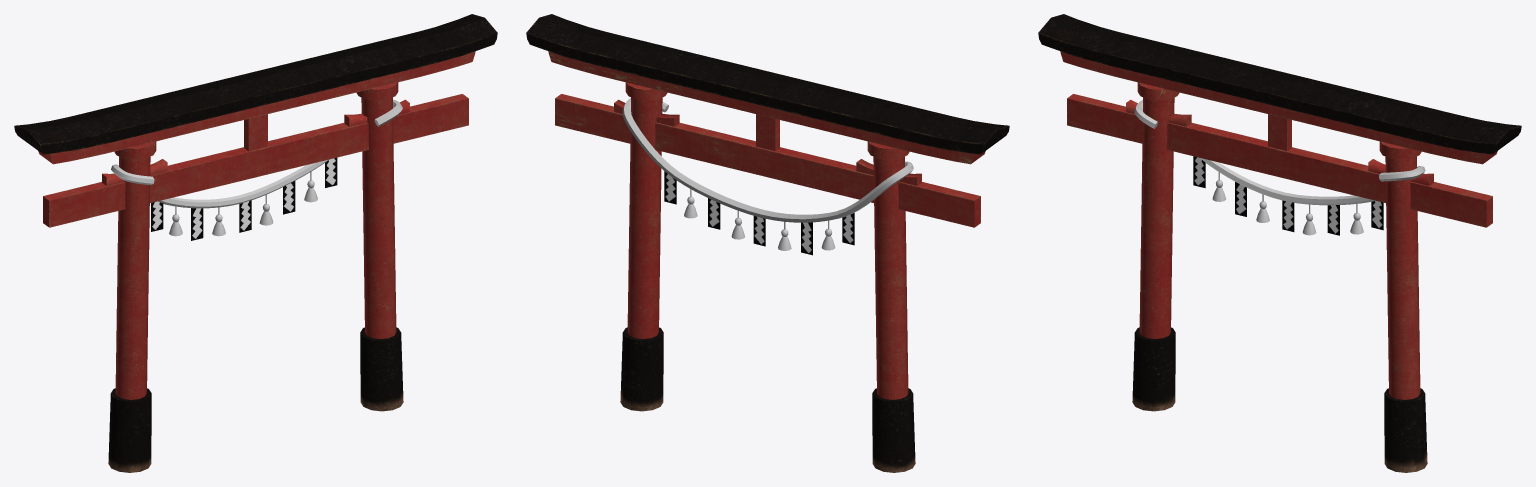
Rendered from Tori.FBX.
3 views of the same model, side by side, from view 1: azimuth 30°, elevation 25°; view 2: azimuth 150°, elevation 25°; view 3: azimuth 330°, elevation 25° (orthographic).
Visible parts, largest first — view 1: b1, Line003; view 2: b1, Line003; view 3: b1, Line003.
Part boxes in pixels (x1,y1,x2,y2): b1: (14, 14, 497, 472); Line003: (111, 99, 402, 208); b1: (526, 14, 1009, 472); Line003: (622, 98, 913, 222); b1: (1038, 14, 1521, 472); Line003: (1134, 100, 1425, 205).
Size of the model in its own units: 208 by 156 by 21.56.
